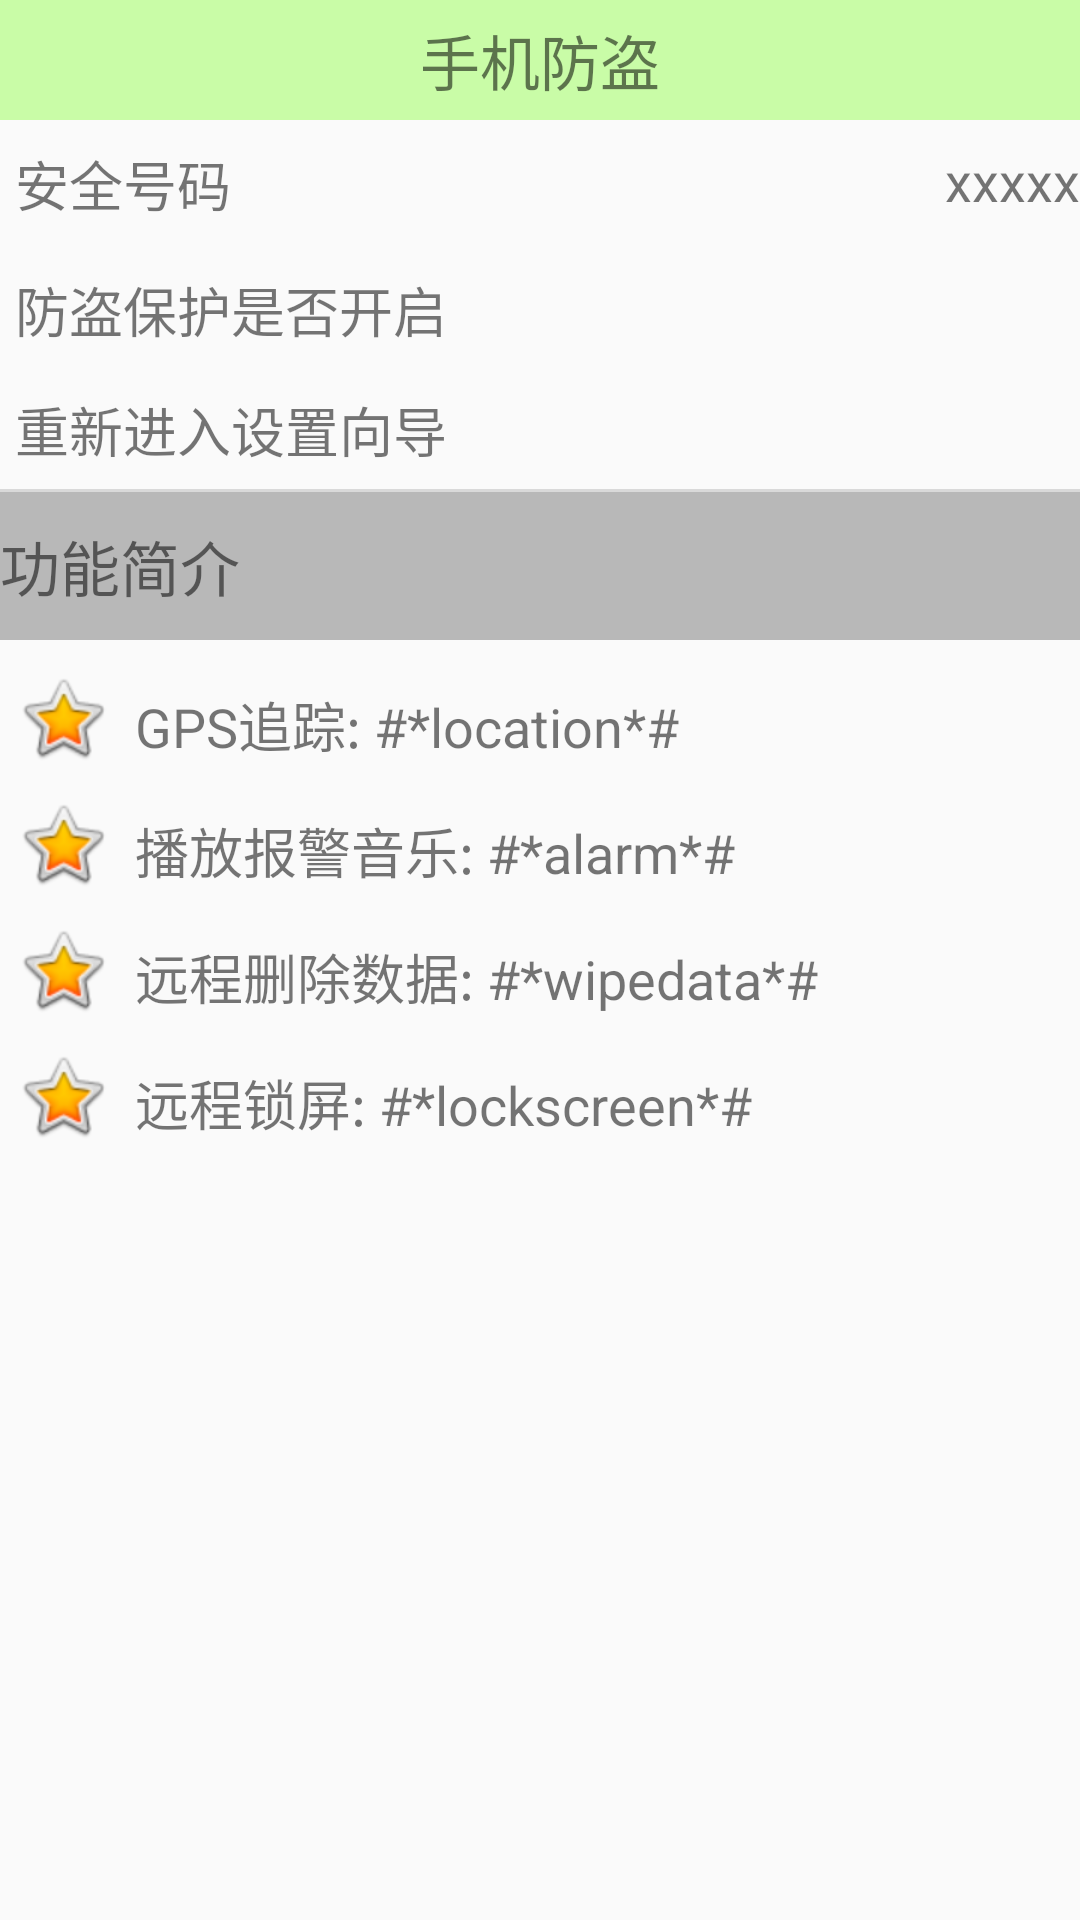

Screen size 1080*1920. Icon name, then its center in pixels as (x,y):
star on: (64,719), (64,845), (64,971), (64,1097)
